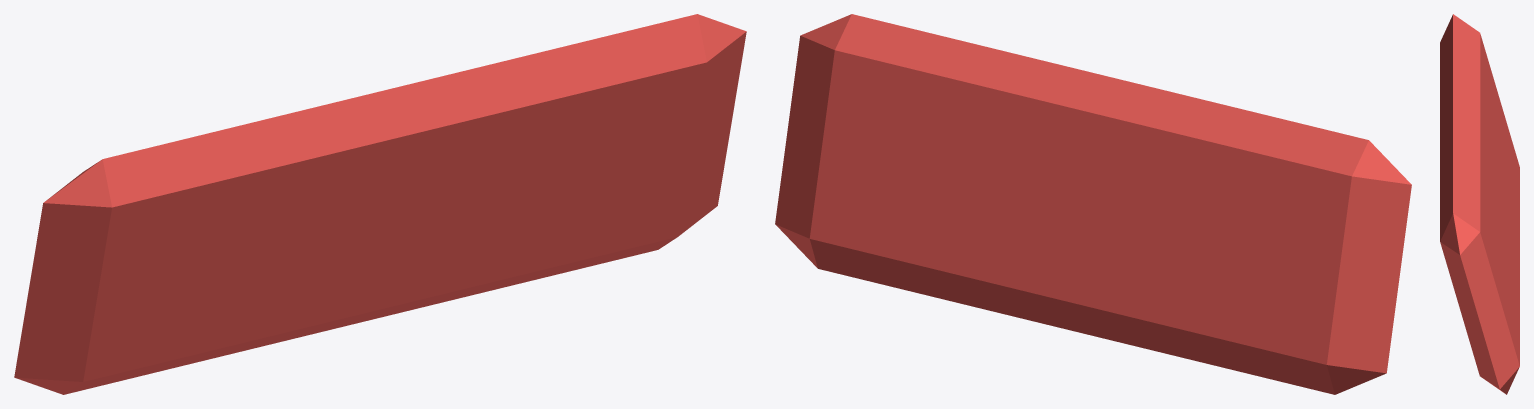
The model's file is Pillow.fbx.
The picture shows the model from 3 angles, left to right: view 1: azimuth 30°, elevation 25°; view 2: azimuth 150°, elevation 25°; view 3: azimuth 270°, elevation 25°; orthographic projection. The views are drawn at different scales.
Parts seen in each view (by area): view 1: pillowLong; view 2: pillowLong; view 3: pillowLong.
Boxes of the visible parts, left/top/right/bottom form: pillowLong: left=14, top=14, right=746, bottom=394; pillowLong: left=775, top=14, right=1411, bottom=394; pillowLong: left=1440, top=14, right=1519, bottom=394.
Size of the model in its own units: 6.19 by 2.22 by 0.8848.
